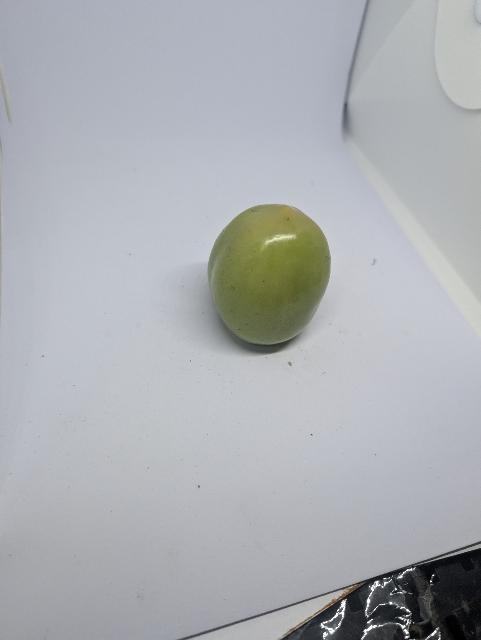green: (191, 175, 336, 359)
